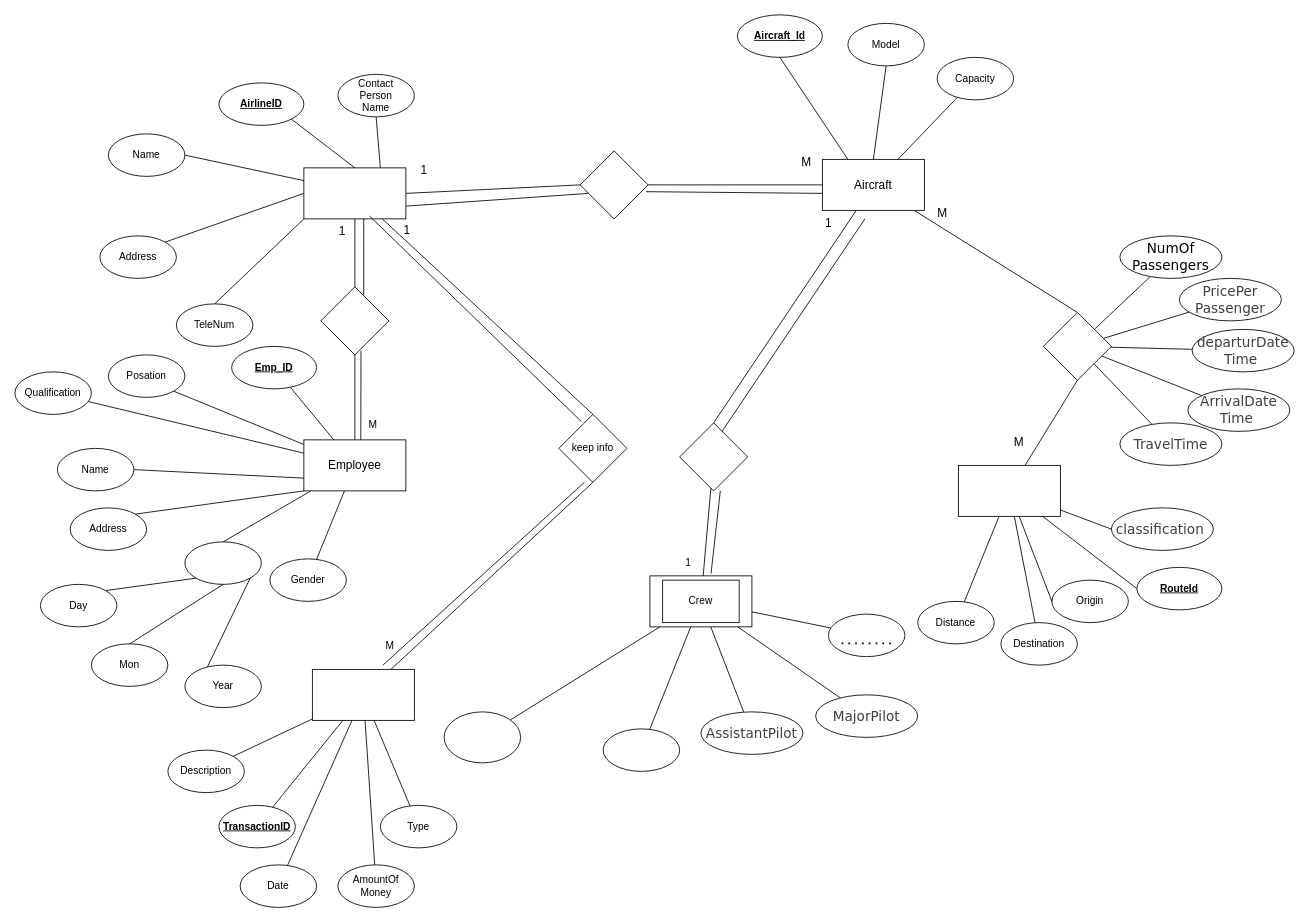
Image size: 1309x922. Some labels were removed from this diagram. The box of each missing label's shape, as (x1, y1, x2, y2) in pixels:
Airline: (303, 167, 406, 219)
Assign: (1043, 312, 1111, 380)
BirthDay: (184, 541, 261, 584)
CrewID: (828, 613, 905, 657)
Has: (679, 422, 748, 491)
Host_1: (602, 728, 680, 771)
Host_2: (443, 711, 521, 763)
Owns: (579, 150, 648, 219)
Route: (958, 465, 1060, 516)
Transaction: (312, 669, 414, 720)
Works in: (320, 286, 389, 355)
